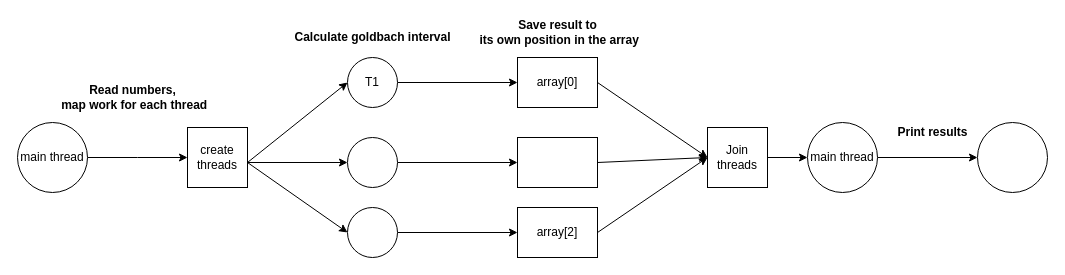
This 1065x275 diagram has some shape labels left out. Here are the shapes that lost their labels. From the top down, the box of each, then its label:
(346, 136, 398, 188): T2
(516, 136, 598, 188): array[1]
(976, 122, 1048, 192): end
(346, 206, 398, 258): T3
